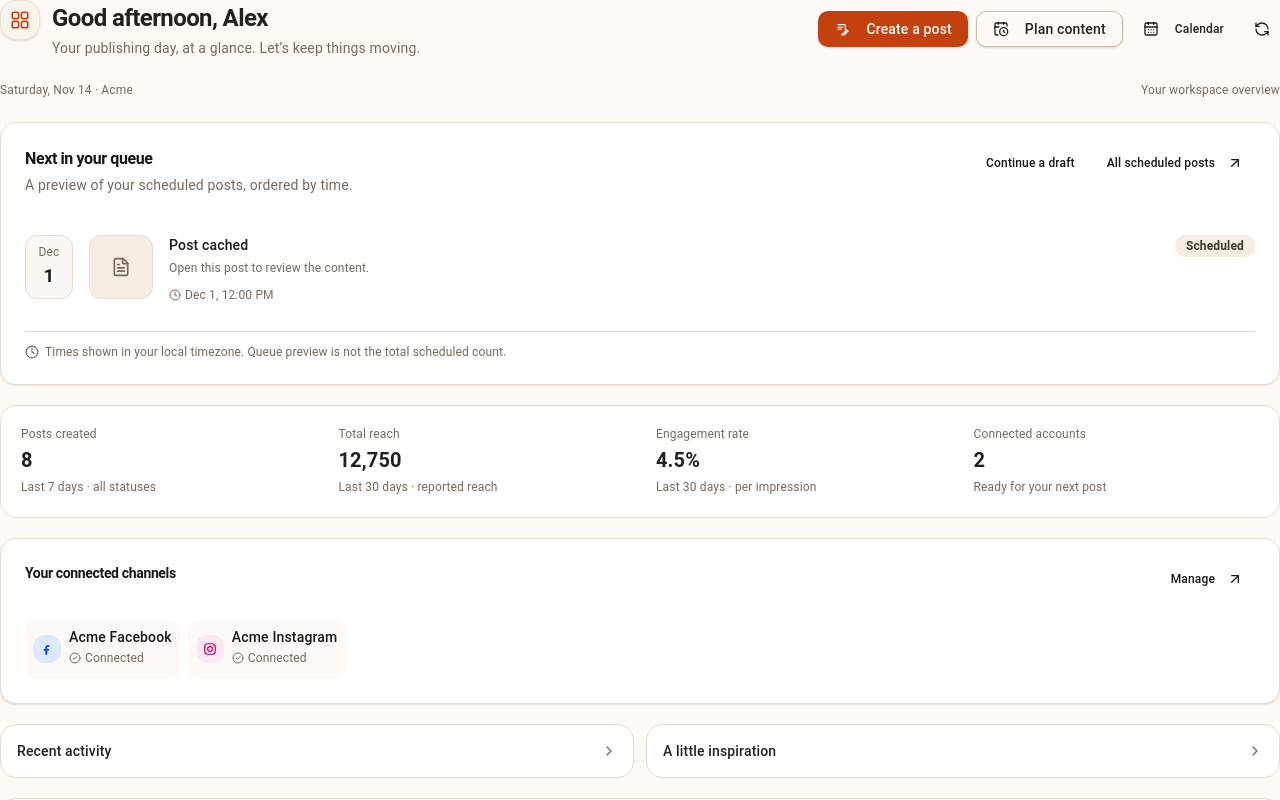
it: SocialDashboard › keeps cached overview and queue visible after a failed refresh
The width and height of the screenshot is (1280, 800).
Step 1. Click the button named "Refresh dashboard" → [1262, 29], box top-left (1244, 11), bottom-right (1279, 47)
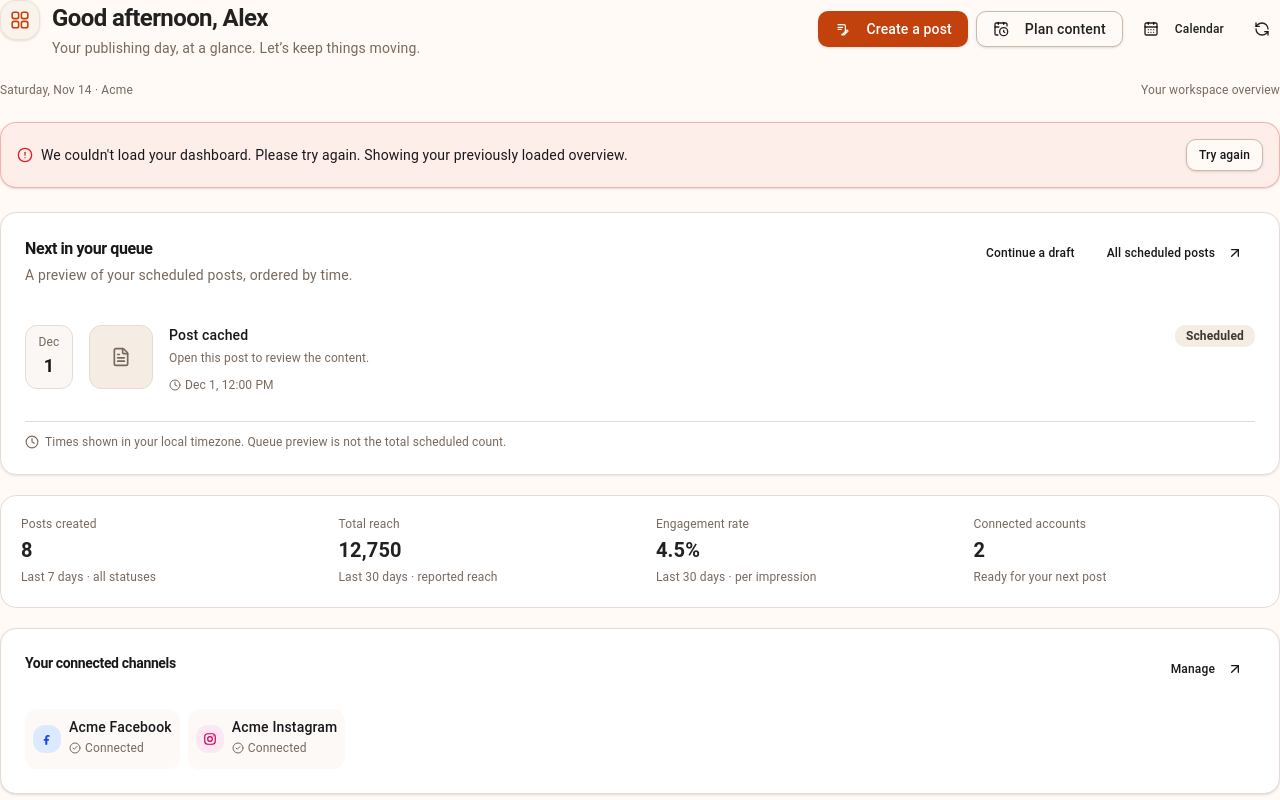
Check: the text "Post cached" is shown, box top-left (169, 327), bottom-right (248, 343)
Check: the message shows "Showing your previously loaded overview.", box top-left (361, 147), bottom-right (628, 163)
